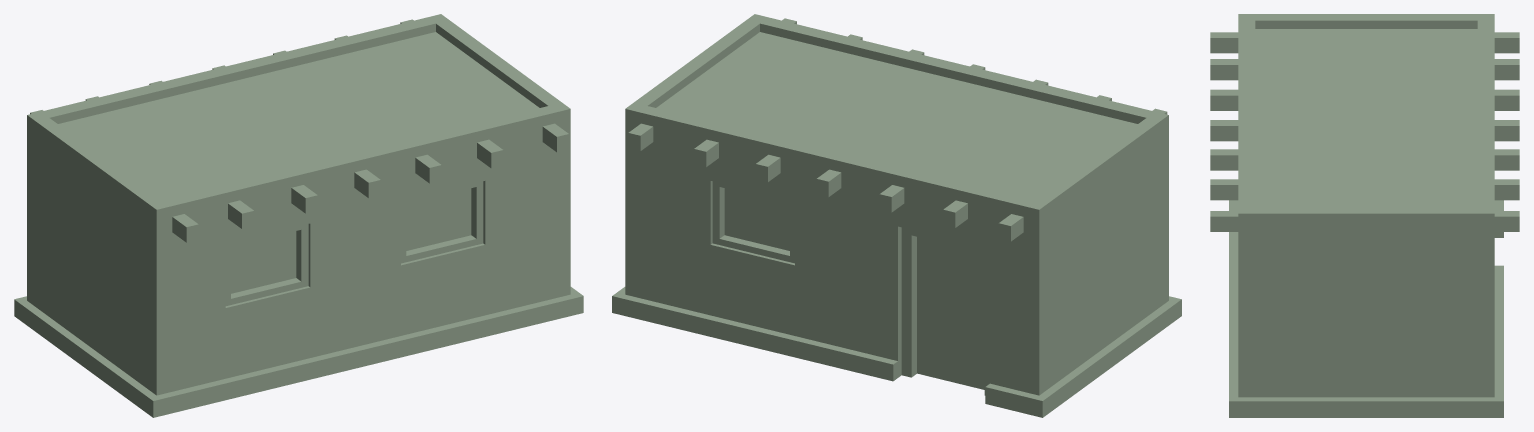
File: mud_hut_01.fbx
3 renders of one model, left to right at view 1: azimuth 30°, elevation 25°; view 2: azimuth 150°, elevation 25°; view 3: azimuth 270°, elevation 25°, orthographic.
Visible parts, largest first — view 1: mud_hut_01; view 2: mud_hut_01; view 3: mud_hut_01.
Part boxes in pixels (x1,y1,x2,y2): mud_hut_01: [14, 14, 583, 417]; mud_hut_01: [612, 14, 1181, 417]; mud_hut_01: [1210, 14, 1519, 417].
Size of the model in its own units: 10.2 by 4.59 by 6.42.
